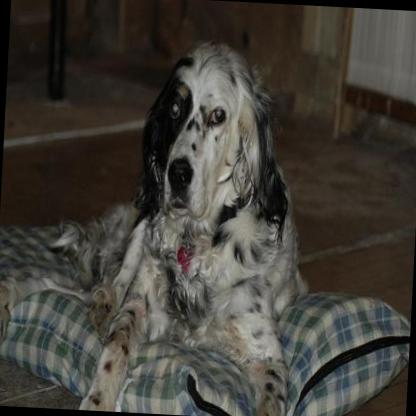English_setter: (35, 28, 310, 416)
